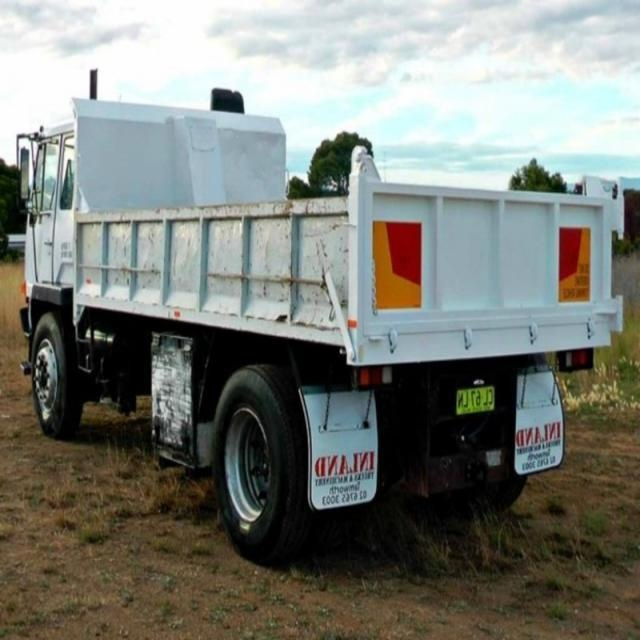truck: (9, 43, 636, 556)
